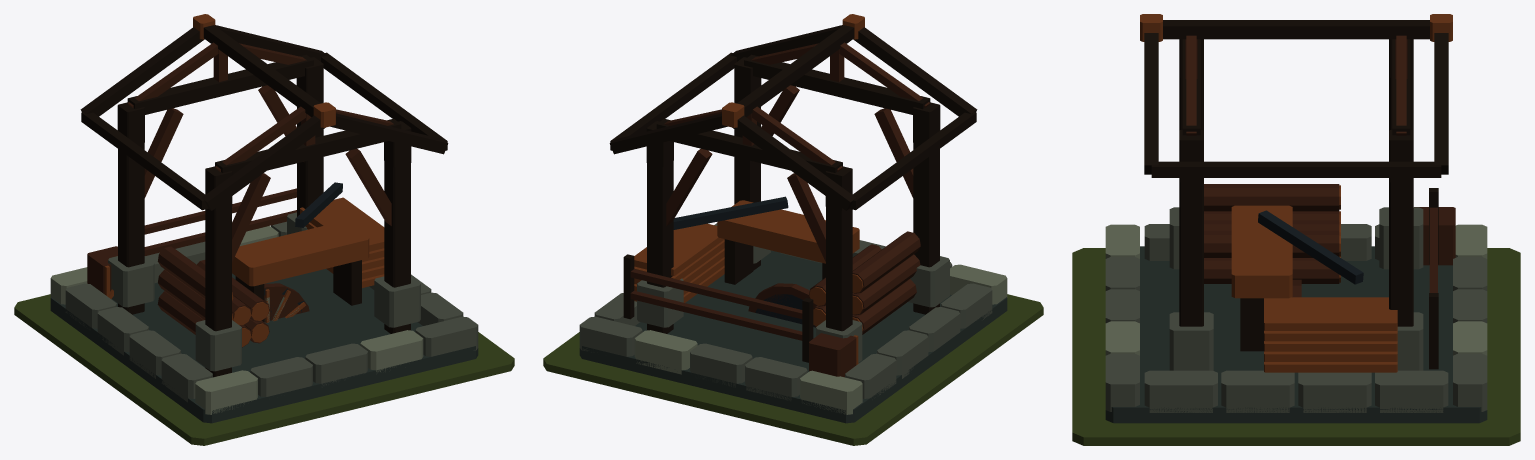
The model's file is sawmill_t4.glb.
3 views of the same model, side by side, from view 1: azimuth 30°, elevation 25°; view 2: azimuth 150°, elevation 25°; view 3: azimuth 270°, elevation 25° (orthographic). The views are drawn at different scales.
Parts seen in each view (by area): view 1: MMR | sawmill | T04 Architecture.001, MMR | sawmill | Tier 04 Ground.001, MMR | sawmill | T04 Header Frame.001, MMR | sawmill | T04 Drive Wheel.001; view 2: MMR | sawmill | T04 Architecture.001, MMR | sawmill | Tier 04 Ground.001, MMR | sawmill | T04 Header Frame.001, MMR | sawmill | T04 Drive Wheel.001, MMR | sawmill | T04 Saw Blade.001; view 3: MMR | sawmill | T04 Architecture.001, MMR | sawmill | Tier 04 Ground.001, MMR | sawmill | T04 Header Frame.001.
Part boxes in pixels (x1=…): MMR | sawmill | T04 Architecture.001: x1=50, y1=14, x2=478, y2=423; MMR | sawmill | Tier 04 Ground.001: x1=14, y1=294, x2=514, y2=445; MMR | sawmill | T04 Header Frame.001: x1=117, y1=42, x2=411, y2=210; MMR | sawmill | T04 Drive Wheel.001: x1=264, y1=283, x2=309, y2=322; MMR | sawmill | T04 Architecture.001: x1=579, y1=14, x2=1007, y2=423; MMR | sawmill | Tier 04 Ground.001: x1=543, y1=294, x2=1043, y2=445; MMR | sawmill | T04 Header Frame.001: x1=646, y1=42, x2=940, y2=210; MMR | sawmill | T04 Drive Wheel.001: x1=748, y1=283, x2=816, y2=327; MMR | sawmill | T04 Saw Blade.001: x1=755, y1=294, x2=815, y2=327; MMR | sawmill | T04 Architecture.001: x1=1105, y1=14, x2=1487, y2=423; MMR | sawmill | Tier 04 Ground.001: x1=1072, y1=248, x2=1520, y2=445; MMR | sawmill | T04 Header Frame.001: x1=1179, y1=35, x2=1413, y2=182.
Bounding box in the file's own units: 2.35 × 2.21 × 2.35.
1 material, 1 textured.
